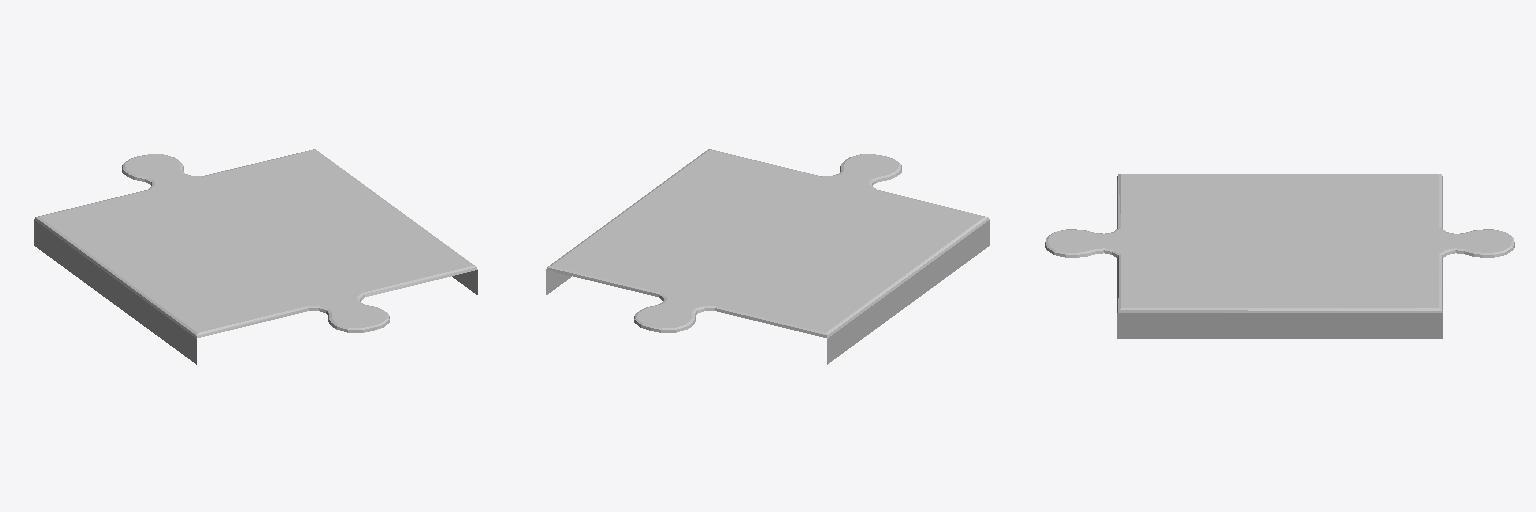
Rendered from Vertical Knobs.obj.
3 renders of one model, left to right at view 1: azimuth 30°, elevation 25°; view 2: azimuth 150°, elevation 25°; view 3: azimuth 270°, elevation 25°, orthographic.
Visible parts, largest first — view 1: PuzzleStraightVerticalKnobs; view 2: PuzzleStraightVerticalKnobs; view 3: PuzzleStraightVerticalKnobs.
Boxes of the visible parts, x1,y1,x2,y2 form: PuzzleStraightVerticalKnobs: [34, 149, 477, 364]; PuzzleStraightVerticalKnobs: [546, 149, 989, 364]; PuzzleStraightVerticalKnobs: [1045, 174, 1514, 338].
Size of the model in its own units: 591 by 59.05 by 854.